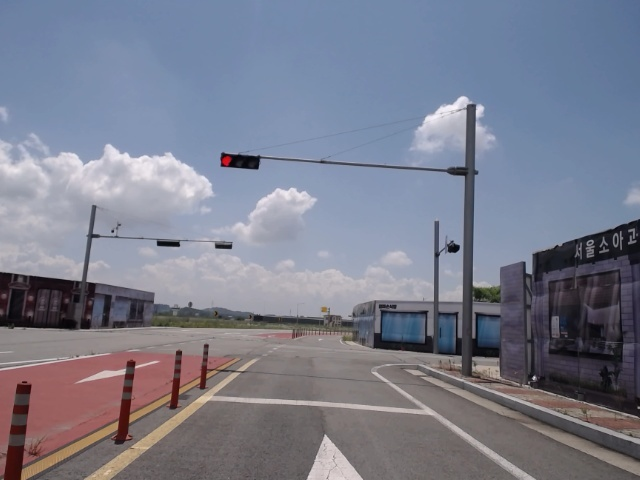red_3: (220, 153, 263, 171)
